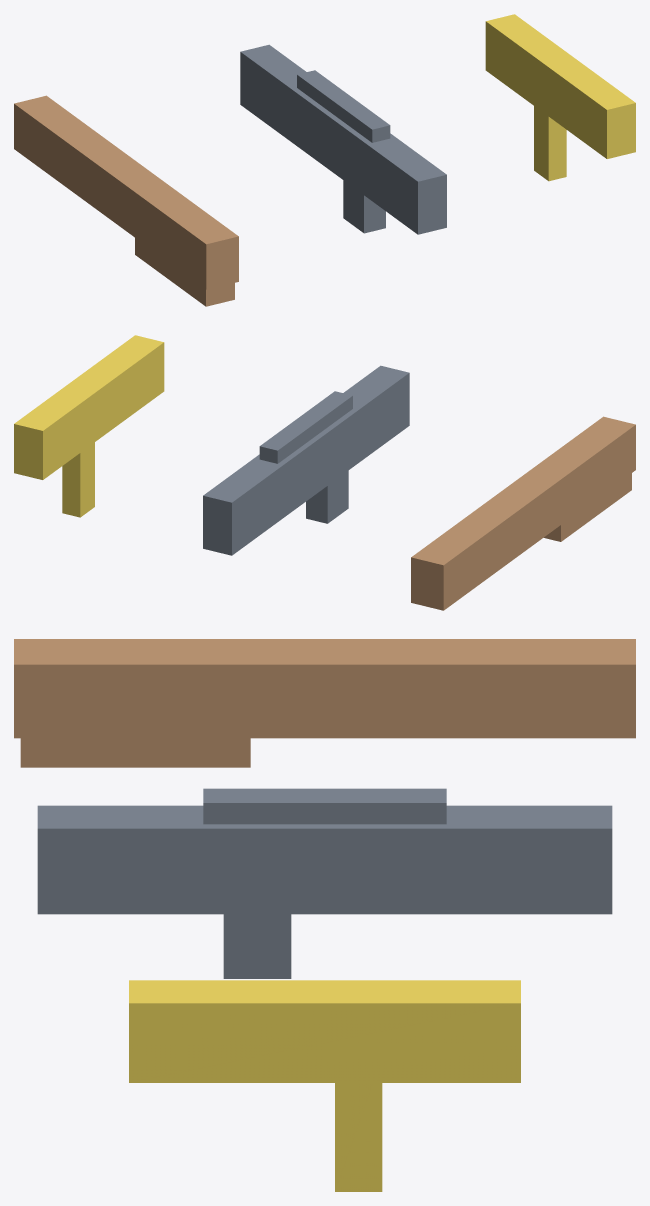
File: sm_weapons_pack.glb
3 renders of one model, top to bottom at view 1: azimuth 30°, elevation 25°; view 2: azimuth 150°, elevation 25°; view 3: azimuth 270°, elevation 25°, orthographic. The views are drawn at different scales.
Visible parts, largest first — view 1: m1887_shotgun, m4a1_ar, mp40_smg; view 2: m4a1_ar, m1887_shotgun, mp40_smg; view 3: m4a1_ar, m1887_shotgun, mp40_smg.
Boxes of the visible parts, x1,y1,x2,y2 form: m1887_shotgun: [14, 95, 238, 306]; m4a1_ar: [240, 44, 446, 234]; mp40_smg: [485, 14, 635, 181]; m4a1_ar: [203, 365, 409, 555]; m1887_shotgun: [411, 416, 635, 610]; mp40_smg: [14, 335, 164, 517]; m4a1_ar: [37, 788, 612, 978]; m1887_shotgun: [14, 639, 635, 767]; mp40_smg: [129, 980, 520, 1191].
Bounding box in the file's own units: 1.28 × 0.355 × 0.92.
